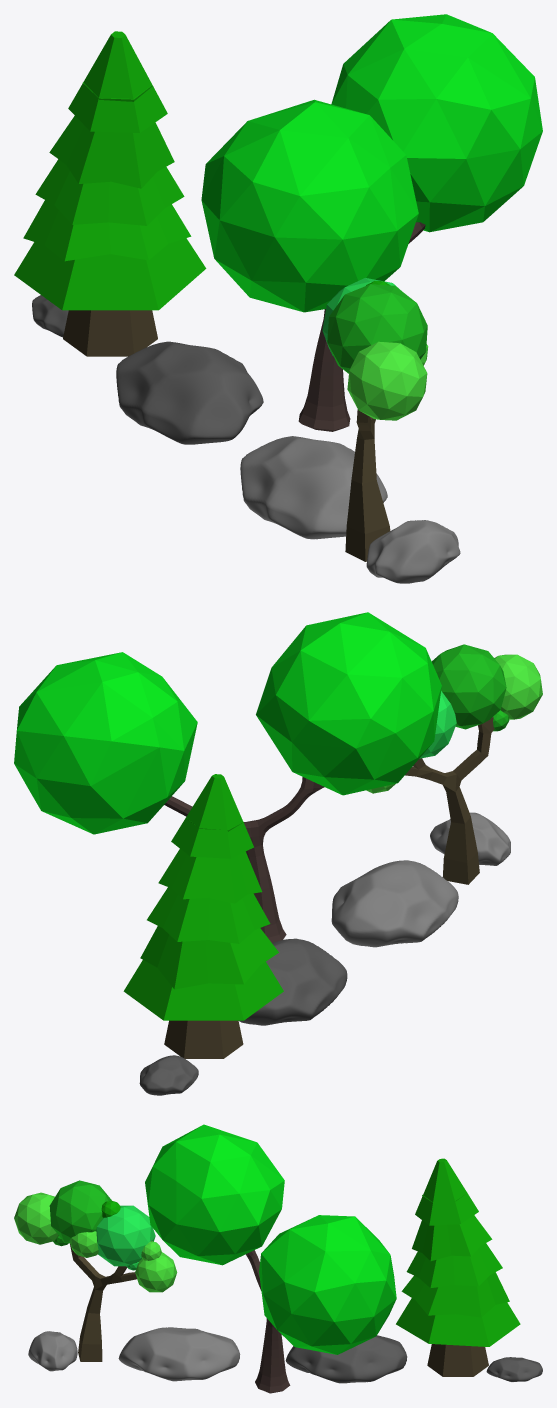
File: tree2.fbx
3 renders of one model, top to bottom at view 1: azimuth 30°, elevation 25°; view 2: azimuth 150°, elevation 25°; view 3: azimuth 270°, elevation 25°, orthographic. The views are drawn at different scales.
Visible parts, largest first — view 1: Icosphere.009, Cube.002, Cube.001, Cylinder.001, Cylinder.005, Icosphere.003, Cylinder.004, Cylinder.002, Cylinder.003, Icosphere.001, Cube.004, Cube (+3 smaller); view 2: Icosphere.009, Cube.001, Cylinder.001, Cylinder.002, Cube.002, Cylinder.003, Icosphere.003, Cube, Cylinder.005, Cylinder.004, Plane, Cylinder (+4 smaller); view 3: Icosphere.009, Cube.001, Cube.002, Cylinder.001, Cylinder.002, Icosphere.002, Cylinder.005, Icosphere.003, Cylinder.003, Cylinder.004, Cube, Plane (+6 smaller).
Part boxes in pixels (x1,y1,x2,y2): Icosphere.009: (201, 14, 542, 312); Cube.002: (116, 341, 263, 444); Cube.001: (240, 436, 387, 539); Cylinder.001: (14, 238, 206, 310); Cylinder.005: (68, 31, 167, 132); Icosphere.003: (327, 284, 427, 373); Cylinder.004: (49, 116, 174, 188); Cylinder.002: (23, 200, 191, 261); Cylinder.003: (35, 159, 184, 225); Icosphere.001: (347, 341, 427, 420); Cube.004: (366, 520, 460, 583); Cube: (345, 409, 390, 561); Icosphere.009: (14, 612, 441, 834); Cube.001: (331, 860, 458, 947); Cylinder.001: (123, 960, 283, 1020); Cylinder.002: (140, 926, 278, 989); Cube.002: (239, 938, 347, 1025); Cylinder.003: (147, 887, 270, 943); Icosphere.003: (431, 644, 506, 729); Cube: (405, 717, 494, 884); Cylinder.005: (171, 774, 253, 858); Cylinder.004: (158, 849, 262, 903); Plane: (164, 777, 324, 942); Cylinder: (164, 1020, 243, 1058); Icosphere.009: (145, 1124, 396, 1354); Cube.001: (118, 1327, 240, 1381); Cube.002: (285, 1335, 407, 1383); Cylinder.001: (396, 1298, 520, 1346); Cylinder.002: (401, 1272, 509, 1317); Icosphere.002: (96, 1205, 155, 1266); Cylinder.005: (415, 1158, 478, 1225); Icosphere.003: (49, 1180, 111, 1243); Cylinder.003: (406, 1243, 502, 1288); Cylinder.004: (412, 1215, 492, 1260); Cube: (70, 1240, 151, 1361); Plane: (246, 1250, 290, 1393).
Size of the model in its own units: 969 by 893 by 1712.
